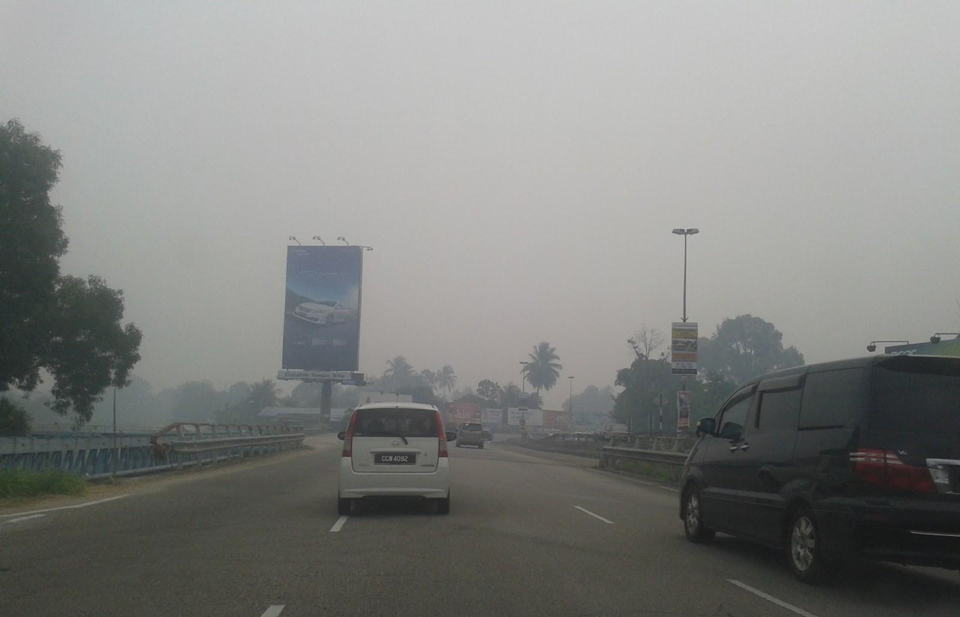car: (673, 345, 960, 580), (336, 402, 454, 519), (454, 420, 486, 451), (476, 424, 496, 443)
